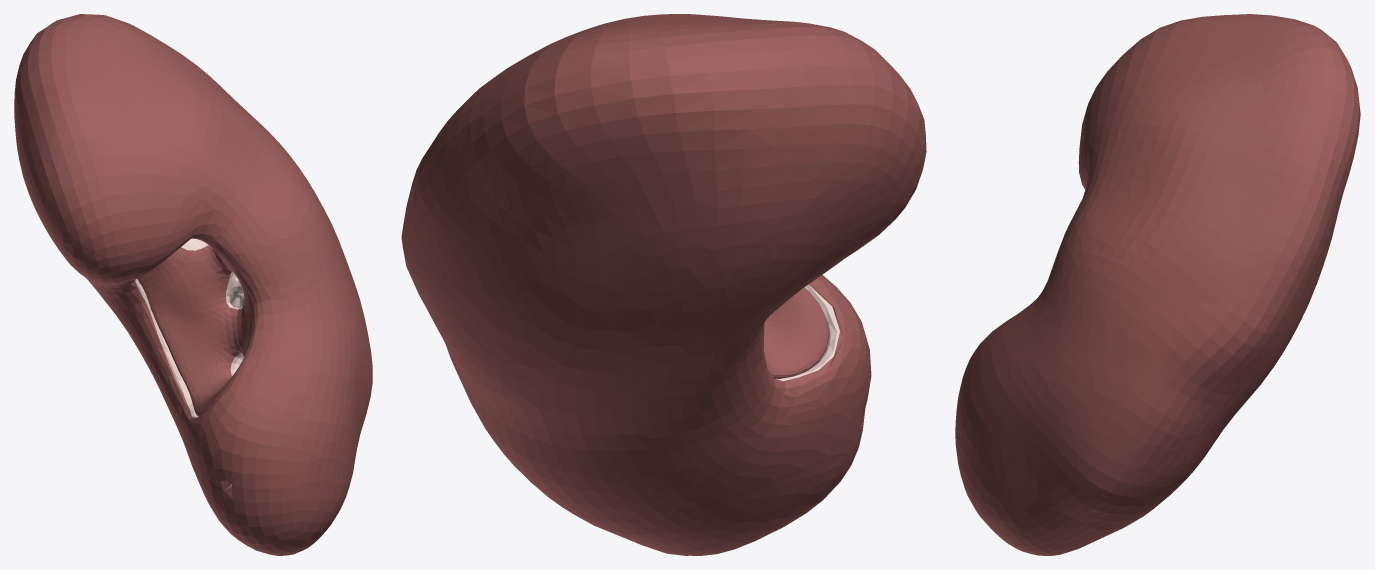
File: VH_M_Kidney_L_0.6.glb
The picture shows the model from 3 angles, left to right: view 1: azimuth 30°, elevation 25°; view 2: azimuth 150°, elevation 25°; view 3: azimuth 270°, elevation 25°; orthographic projection. The views are drawn at different scales.
Visible parts, largest first — view 1: VH_M_kidney_capsule_L, VH_M_hilum_of_kidney_L, VH_M_renal_column_L, VH_M_outer_cortex_of_kidney_L; view 2: VH_M_kidney_capsule_L, VH_M_hilum_of_kidney_L, VH_M_outer_cortex_of_kidney_L; view 3: VH_M_kidney_capsule_L.
Boxes of the visible parts, <box> form: VH_M_kidney_capsule_L: <box>14,14,372,555</box>; VH_M_hilum_of_kidney_L: <box>137,238,253,416</box>; VH_M_renal_column_L: <box>181,238,244,376</box>; VH_M_outer_cortex_of_kidney_L: <box>135,278,198,417</box>; VH_M_kidney_capsule_L: <box>401,14,926,555</box>; VH_M_hilum_of_kidney_L: <box>763,287,829,378</box>; VH_M_outer_cortex_of_kidney_L: <box>776,284,839,381</box>; VH_M_kidney_capsule_L: <box>955,14,1360,555</box>.
Bounding box in the file's own units: 0.0757 × 0.1065 × 0.0824.
